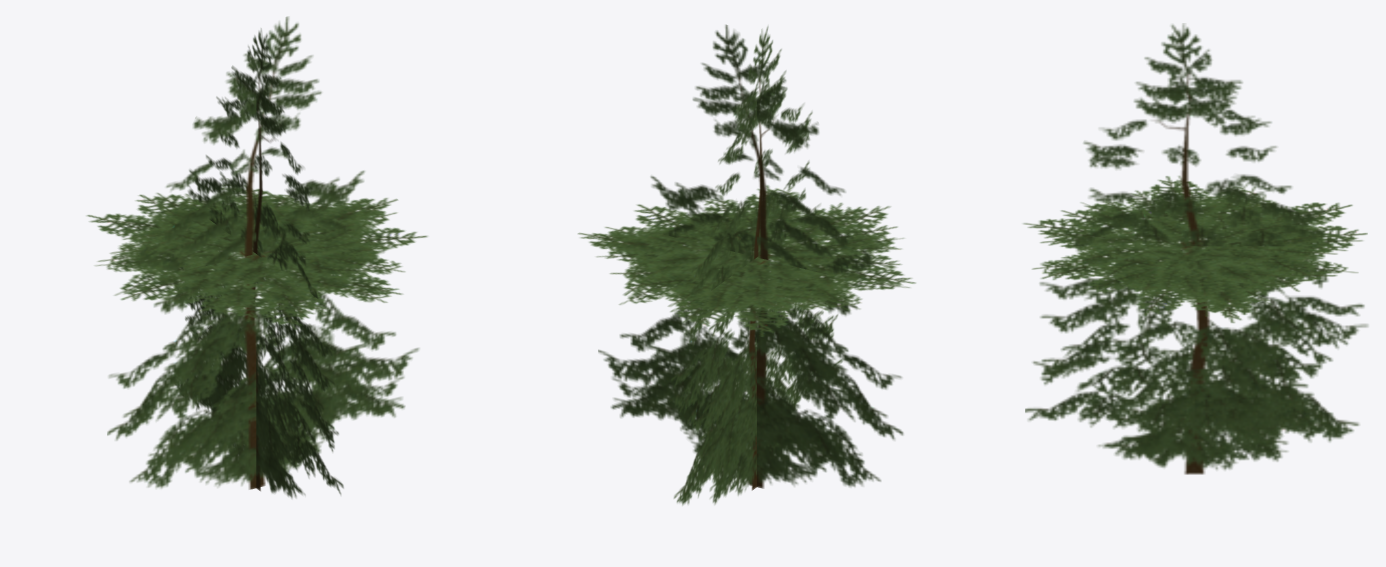
Rendered from fir-medium-1-lod-3.glb.
The picture shows the model from 3 angles, left to right: view 1: azimuth 30°, elevation 25°; view 2: azimuth 150°, elevation 25°; view 3: azimuth 270°, elevation 25°; orthographic projection. The views are drawn at different scales.
Parts seen in each view (by area): view 1: fir-medium-1-lod-3; view 2: fir-medium-1-lod-3; view 3: fir-medium-1-lod-3.
Part boxes in pixels (x1=…): fir-medium-1-lod-3: x1=86, y1=16, x2=427, y2=498; fir-medium-1-lod-3: x1=578, y1=25, x2=915, y2=505; fir-medium-1-lod-3: x1=1023, y1=23, x2=1367, y2=474.
Bounding box in the file's own units: 3.15 × 4.4 × 3.09.
1 material, 1 textured.
